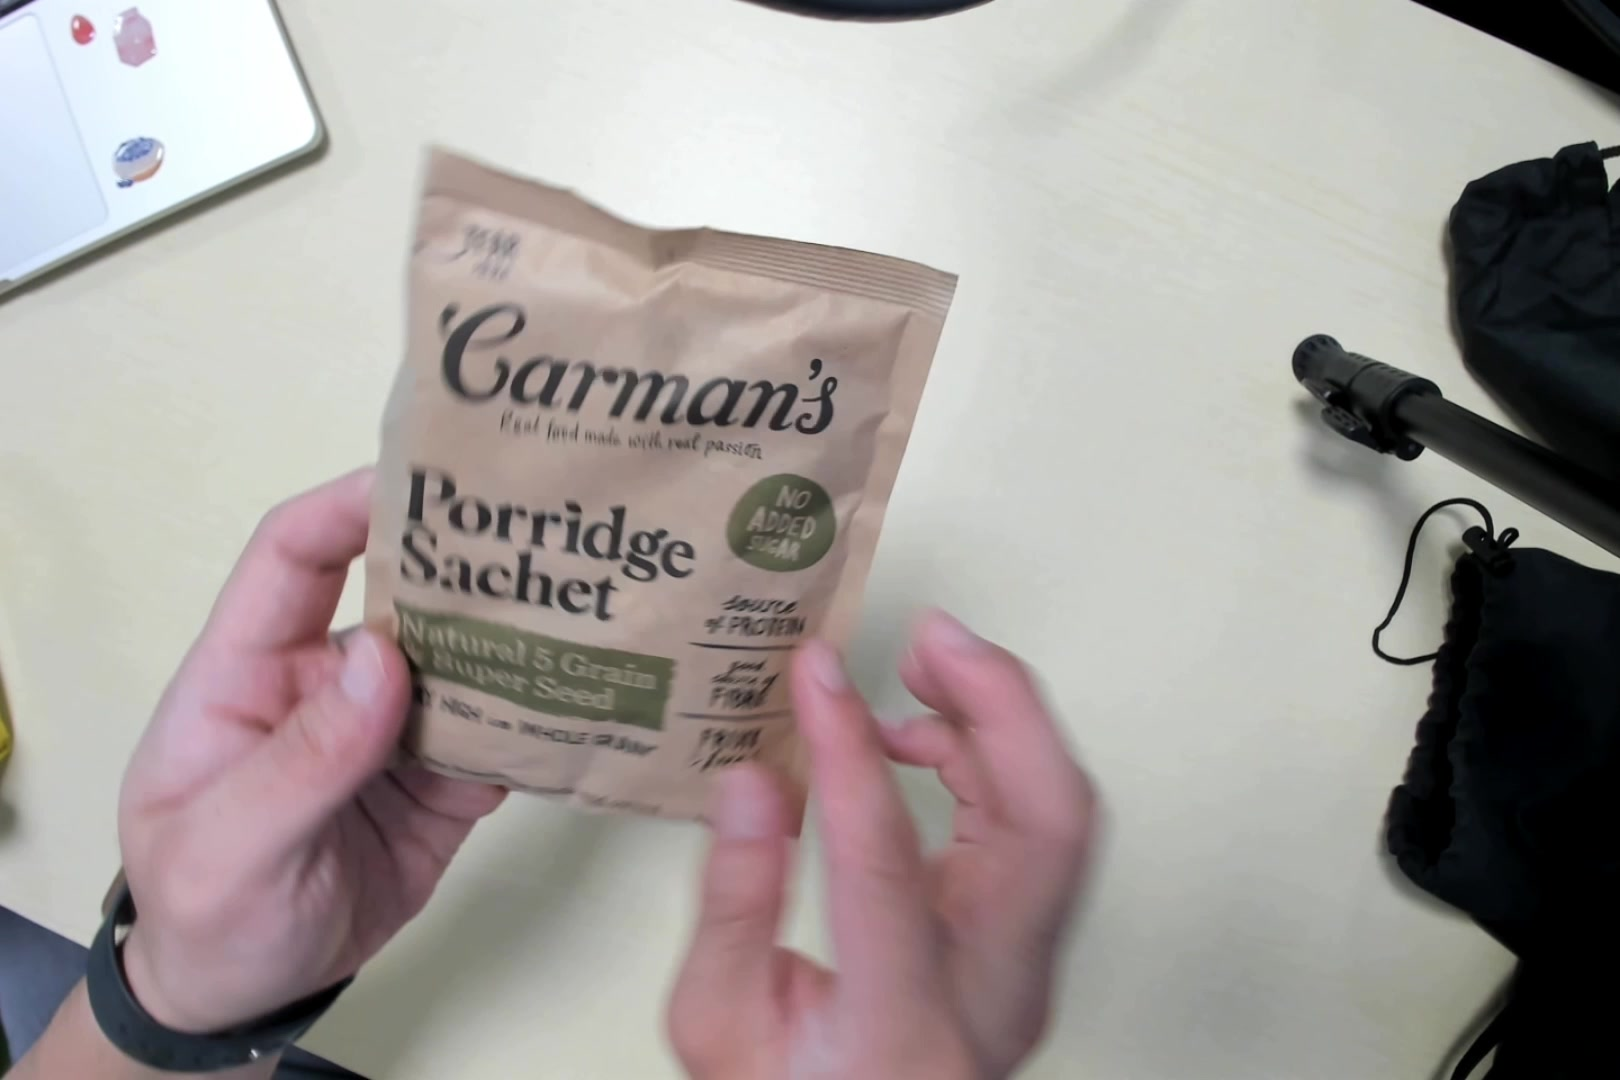InstantMeals_0-99g_NonHalal_NonHealthy: (374, 186, 935, 838)
